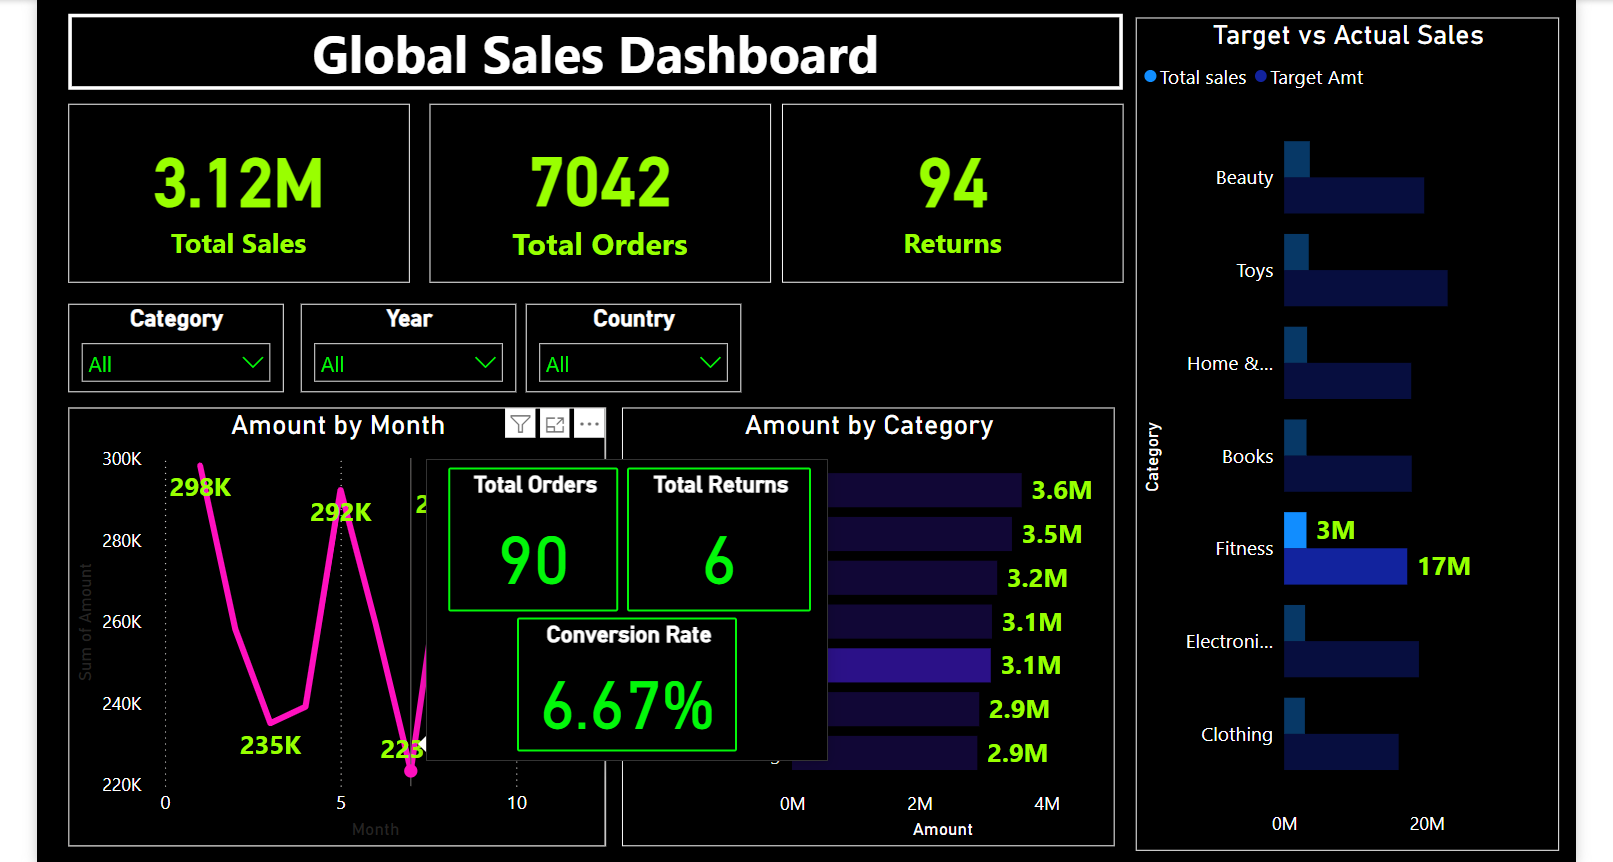

What the dashboard file says about the page in this screenshot:
{"tool":"powerbi","page":{"name":"Page 1","canvas":[1280,720],"ordinal":0},"visuals":[{"type":"shape","box":[26,11.5,877.2,63.5],"z":0},{"type":"card","fields":{"Values":["Sum(Orders.Amount)"]},"box":[26,86.6,284.2,148.6],"z":1000},{"type":"card","fields":{"Values":["Sum(Orders.Quantity)"]},"box":[326.1,86.6,284.2,148.6],"z":2000},{"type":"card","fields":{"Values":["CountNonNull(Returns.ReturnID)"]},"box":[618.9,86.6,284.2,148.6],"z":3000},{"type":"lineChart","title":"Amount by Month","fields":{"Y":["Sum(Orders.Amount)"],"Category":["Orders.OrderDate Hierarchy.Month"]},"box":[26,339,447.3,365],"z":4000},{"type":"barChart","fields":{"Category":["Products.Category"],"Y":["Sum(Orders.Amount)"]},"box":[486.2,339,409.7,365],"z":5000},{"type":"slicer","title":"Category","fields":{"Values":["Products.Category"]},"box":[26,252.5,178.9,73.6],"z":6000},{"type":"slicer","title":"Year","fields":{"Values":["DateTable.Date.Variation.Date Hierarchy.Year"]},"box":[219.3,252.5,178.9,73.6],"z":7000},{"type":"slicer","title":"Country","fields":{"Values":["Customers.Country"]},"box":[406.9,252.5,178.9,73.6],"z":8000},{"type":"clusteredBarChart","title":" Target vs Actual Sales","fields":{"Category":["Products.Category"],"Y":["Orders.Total sales","Sales Target.Target Amt"]},"box":[913.3,14.4,352,692.5],"z":9000}]}

Visuals, with their boxes on the page's 1280x720 design canvas (x1, y1, x2, y2). These are canvas units, not pixel positions in the 1613x862 screenshot, which may show the page scaled, cropped or inside an application window:
shape: 26, 12, 903, 75
card - Sum(Orders.Amount): 26, 87, 310, 235
card - Sum(Orders.Quantity): 326, 87, 610, 235
card - CountNonNull(Returns.ReturnID): 619, 87, 903, 235
"Amount by Month" lineChart: 26, 339, 473, 704
barChart - Products.Category x Sum(Orders.Amount): 486, 339, 896, 704
"Category" slicer: 26, 252, 205, 326
"Year" slicer: 219, 252, 398, 326
"Country" slicer: 407, 252, 586, 326
" Target vs Actual Sales" clusteredBarChart: 913, 14, 1265, 707
